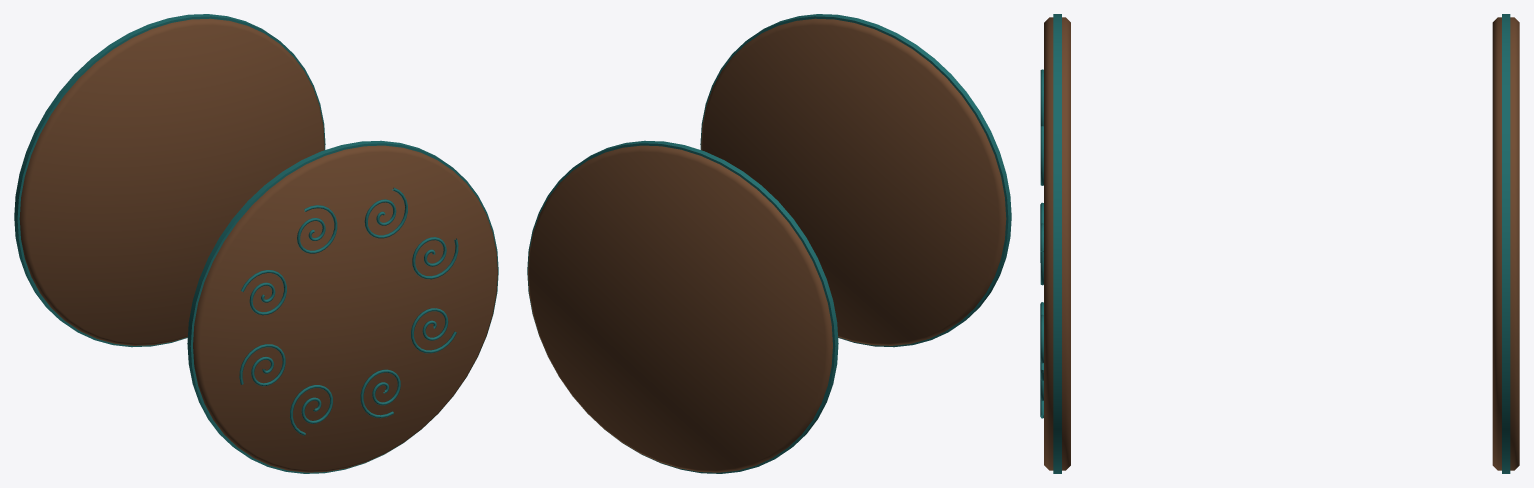
File: k12_discs.obj
3 renders of one model, left to right at view 1: azimuth 30°, elevation 25°; view 2: azimuth 150°, elevation 25°; view 3: azimuth 270°, elevation 25°, orthographic. The views are drawn at different scales.
Visible parts, largest first — view 1: k12_discs; view 2: k12_discs; view 3: k12_discs.
Part boxes in pixels (<box>): k12_discs: <box>14,14,498,473</box>; k12_discs: <box>527,14,1011,473</box>; k12_discs: <box>1040,14,1519,473</box>.
Bounding box in the file's own units: 2.71 × 2.71 × 2.82.
